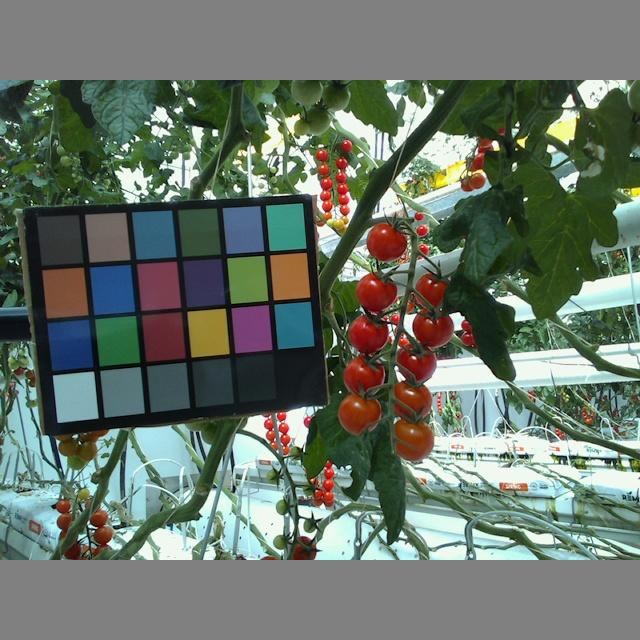pink: (387, 379, 433, 420), (336, 395, 381, 436), (391, 419, 435, 460)
red: (342, 354, 387, 395), (413, 308, 456, 348), (346, 314, 388, 354), (412, 273, 457, 310), (354, 272, 397, 310), (364, 224, 408, 261), (395, 344, 438, 381)
